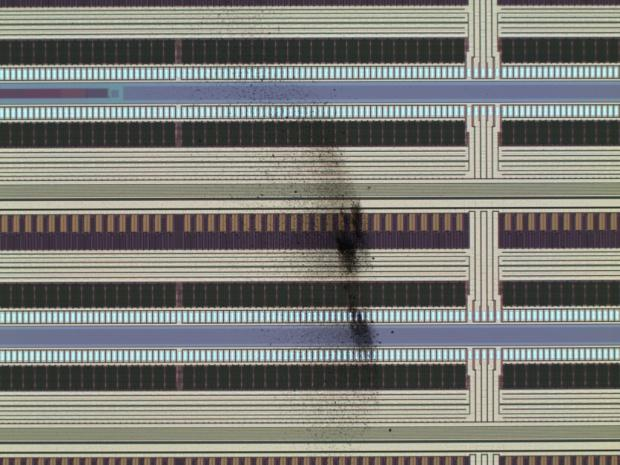PO CONTAMINATION: (173, 2, 386, 465)
